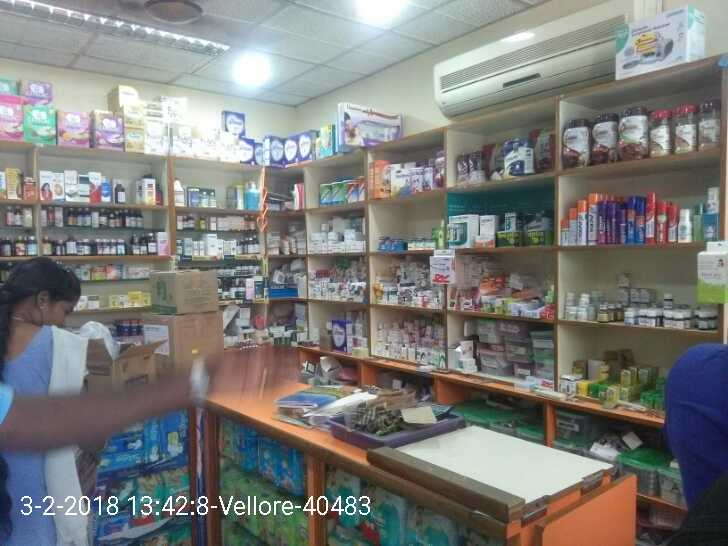reject: (353, 250, 416, 316)
